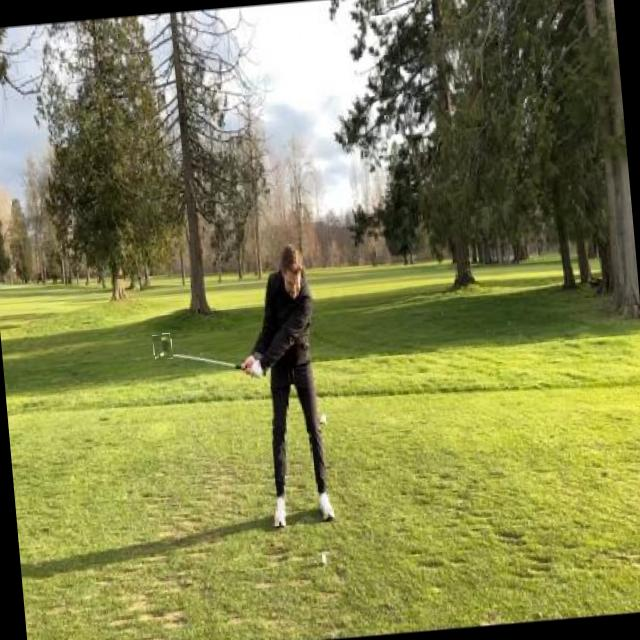club head: (152, 333, 172, 360)
